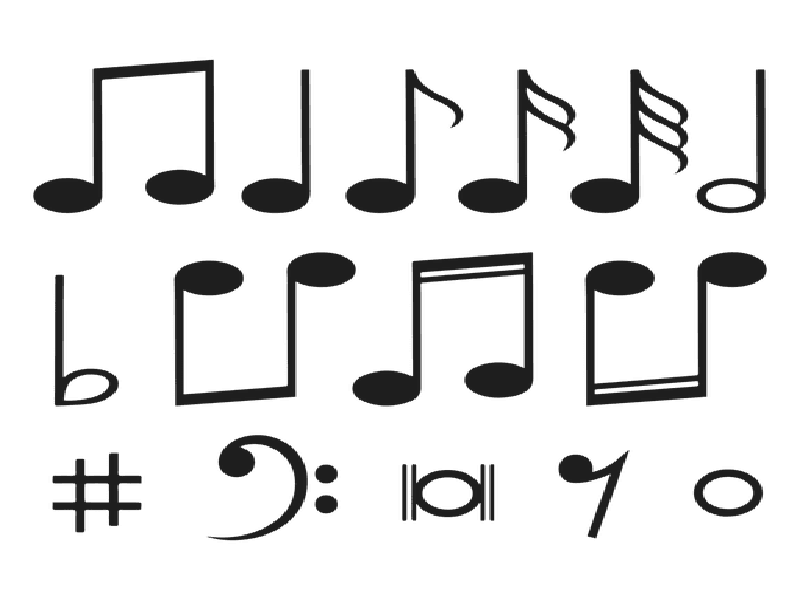B: (696, 68, 773, 213)
Bem: (47, 267, 125, 407)
C: (250, 241, 354, 405), (345, 69, 460, 217), (31, 63, 137, 214), (168, 249, 255, 409), (143, 56, 219, 217)
CF: (202, 427, 341, 542)
N: (241, 65, 324, 216)
R: (694, 466, 762, 518)
SC: (657, 251, 766, 411), (460, 69, 574, 221), (354, 254, 463, 405), (579, 258, 674, 413), (465, 247, 538, 399)
SOS: (49, 444, 146, 534)
